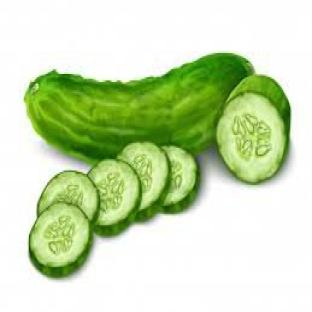Cucumber: (25, 54, 252, 162), (217, 76, 290, 183), (29, 203, 91, 276), (119, 142, 169, 220), (88, 160, 140, 234), (38, 171, 99, 221), (163, 147, 199, 212)
